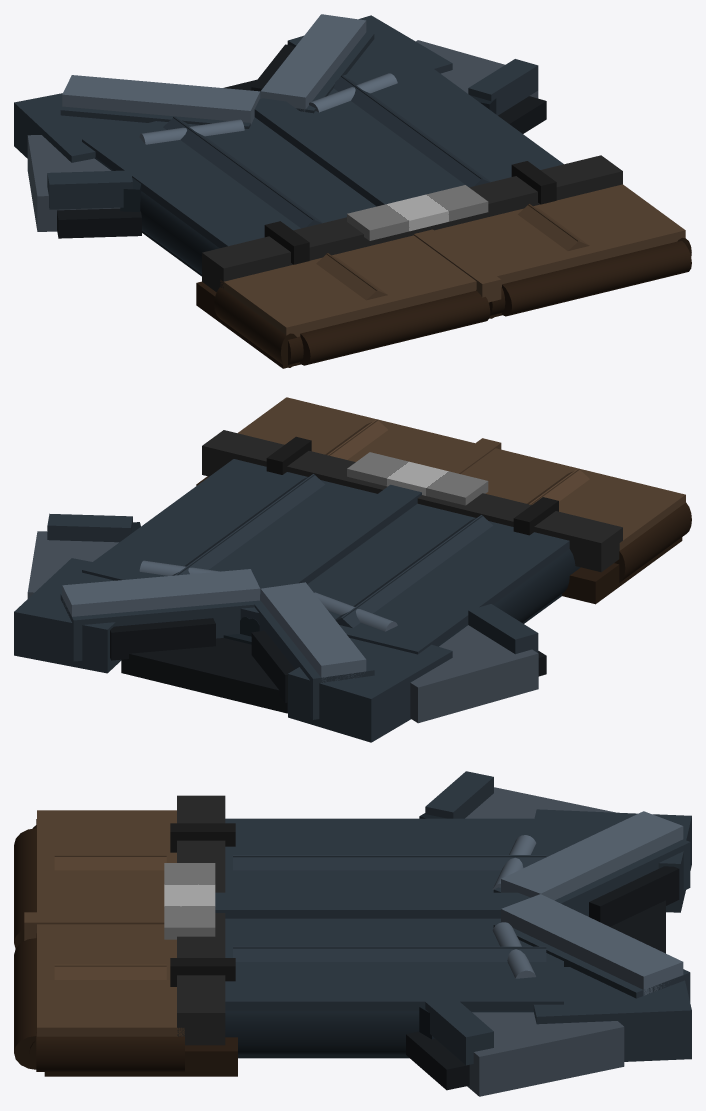
Rendered from CMU3DRMCJumpsuitBlueWorkwearWorldCloud.glb.
3 views of the same model, one above another, from view 1: azimuth 30°, elevation 25°; view 2: azimuth 150°, elevation 25°; view 3: azimuth 270°, elevation 25° (orthographic). The views are drawn at different scales.
Visible parts, largest first — view 1: left shirt front continuous cloth panel, right shirt front continuous cloth panel, left folded trouser panel continuous cloth panel, right folded trouser panel continuous cloth panel, continuous attached waist belt, left turned collar face, right turned trouser hem, left turned trouser hem, continuous center button placket, right turned collar face, original small waist clasp, left continuous shoulder cloth (+24 smaller); view 2: left shirt front continuous cloth panel, right shirt front continuous cloth panel, continuous attached waist belt, left continuous shoulder cloth, left folded trouser panel continuous cloth panel, left sloping sleeve cloth, right folded trouser panel continuous cloth panel, recessed inner neck facing, right turned collar face, right continuous shoulder cloth, left turned collar face, continuous center button placket (+22 smaller); view 3: right shirt front continuous cloth panel, left shirt front continuous cloth panel, right folded trouser panel continuous cloth panel, left folded trouser panel continuous cloth panel, right sloping sleeve cloth, right shirt front right turned edge, right continuous shoulder cloth, continuous center button placket, continuous attached waist belt, right turned collar face, left turned collar face, right folded trouser panel right turned edge (+25 smaller).
Part boxes in pixels (left/top/right/bottom): left shirt front continuous cloth panel: left=82, top=117, right=376, bottom=247; right shirt front continuous cloth panel: left=300, top=57, right=563, bottom=196; left folded trouser panel continuous cloth panel: left=220, top=235, right=476, bottom=363; right folded trouser panel continuous cloth panel: left=434, top=184, right=685, bottom=314; continuous attached waist belt: left=202, top=155, right=622, bottom=291; left turned collar face: left=62, top=75, right=260, bottom=124; right turned trouser hem: left=501, top=241, right=691, bottom=316; left turned trouser hem: left=299, top=291, right=490, bottom=365; continuous center button placket: left=254, top=98, right=416, bottom=206; right turned collar face: left=260, top=14, right=366, bottom=111; original small waist clasp: left=347, top=185, right=488, bottom=240; left continuous shoulder cloth: left=14, top=93, right=146, bottom=162; left shirt front continuous cloth panel: left=250, top=503, right=569, bottom=654; right shirt front continuous cloth panel: left=82, top=459, right=377, bottom=619; continuous attached waist belt: left=202, top=430, right=622, bottom=572; left continuous shoulder cloth: left=288, top=638, right=452, bottom=742; left folded trouser panel continuous cloth panel: left=460, top=448, right=685, bottom=550; left sloping sleeve cloth: left=410, top=625, right=538, bottom=723; right folded trouser panel continuous cloth panel: left=237, top=397, right=474, bottom=468; recessed inner neck facing: left=121, top=638, right=287, bottom=713; right turned collar face: left=62, top=569, right=260, bottom=616; right continuous shoulder cloth: left=14, top=558, right=121, bottom=673; left turned collar face: left=260, top=582, right=366, bottom=682; continuous center button placket: left=257, top=484, right=421, bottom=600; right shirt front continuous cloth panel: left=225, top=918, right=563, bottom=1010; left shirt front continuous cloth panel: left=225, top=818, right=563, bottom=892; right folded trouser panel continuous cloth panel: left=37, top=924, right=184, bottom=1036; left folded trouser panel continuous cloth panel: left=37, top=810, right=176, bottom=912; right sloping sleeve cloth: left=467, top=1012, right=624, bottom=1096; right shirt front right turned edge: left=225, top=1010, right=533, bottom=1054; right continuous shoulder cloth: left=533, top=967, right=691, bottom=1061; continuous center button placket: left=215, top=892, right=530, bottom=918; continuous attached waist belt: left=177, top=795, right=225, bottom=1045; right turned collar face: left=501, top=894, right=683, bottom=995; left turned collar face: left=501, top=811, right=683, bottom=900; right folded trouser panel right turned edge: left=36, top=1032, right=184, bottom=1071.
Size of the model in its own units: 0.3961 by 0.05 by 0.4159.
10 materials, 1 textured.
